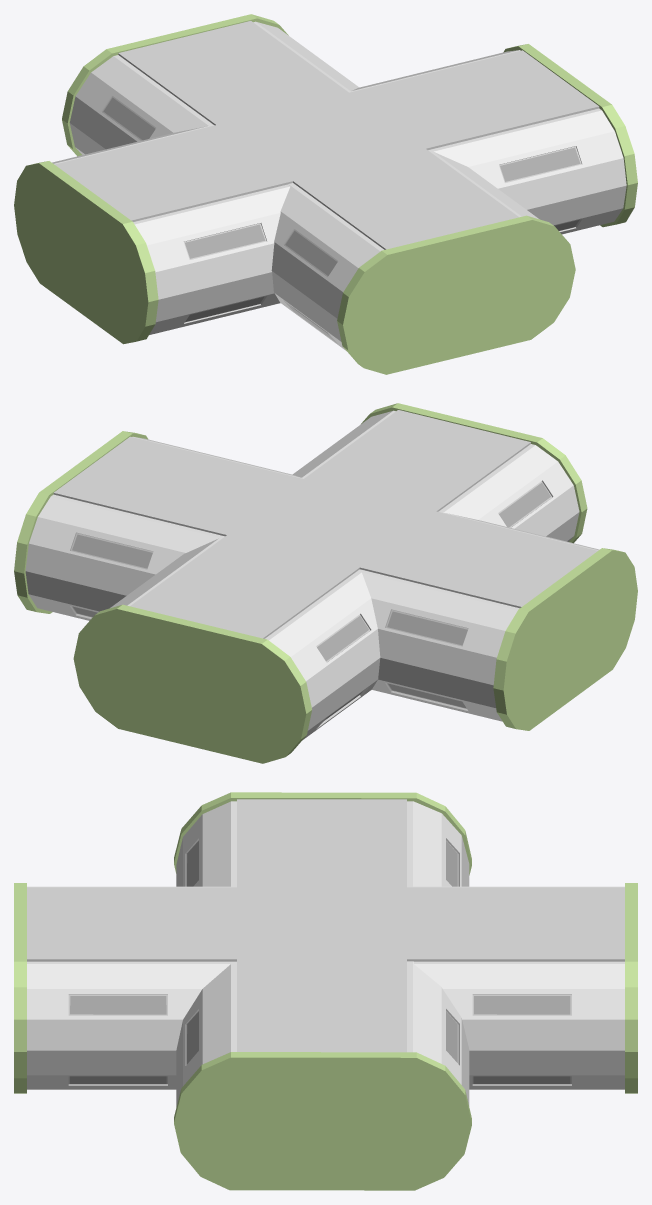
3 renders of one model, top to bottom at view 1: azimuth 30°, elevation 25°; view 2: azimuth 150°, elevation 25°; view 3: azimuth 270°, elevation 25°, orthographic. The views are drawn at different scales.
Visible parts, largest first — view 1: Cylinder_1; view 2: Cylinder_1; view 3: Cylinder_1.
Boxes of the visible parts, <box> form: Cylinder_1: <box>14,14,637,374</box>; Cylinder_1: <box>14,403,637,763</box>; Cylinder_1: <box>14,792,637,1190</box>.
Bounding box in the file's own units: 1264 × 296 × 1257.
